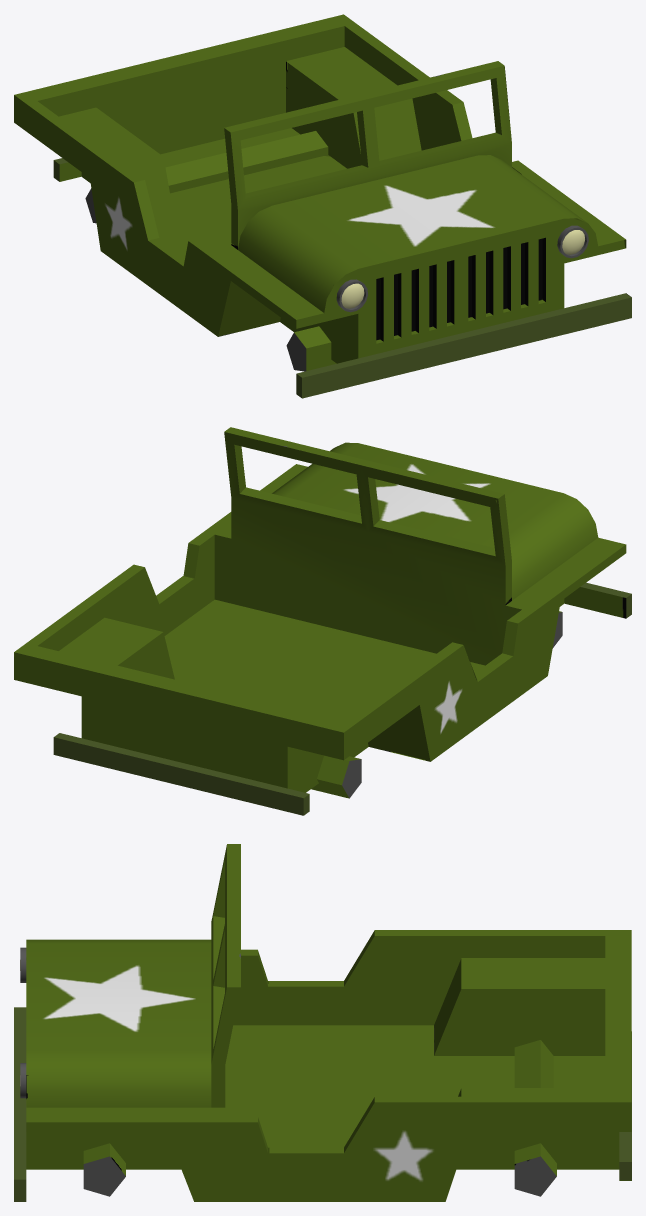
Rendered from JeepBody.obj.
The picture shows the model from 3 angles, top to bottom: view 1: azimuth 30°, elevation 25°; view 2: azimuth 150°, elevation 25°; view 3: azimuth 270°, elevation 25°; orthographic projection. The views are drawn at different scales.
Visible parts, largest first — view 1: Jeep_Cube.001; view 2: Jeep_Cube.001; view 3: Jeep_Cube.001.
Part boxes in pixels (box(x1,y1,x2,y2)): Jeep_Cube.001: box(14, 14, 631, 398); Jeep_Cube.001: box(14, 427, 631, 815); Jeep_Cube.001: box(14, 844, 631, 1201).
Bounding box in the file's own units: 2.21 × 1.28 × 3.34.
